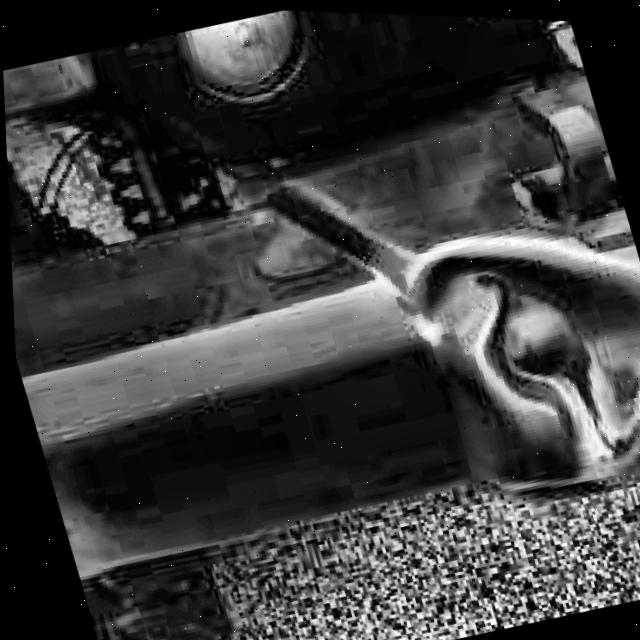bumper_dent: (400, 192, 640, 493)
